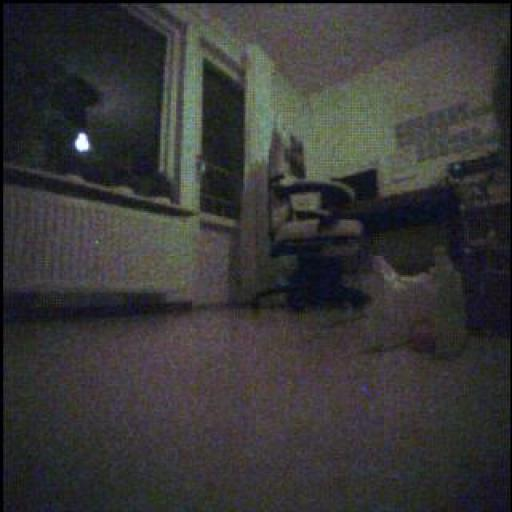basket: (407, 316, 437, 352)
